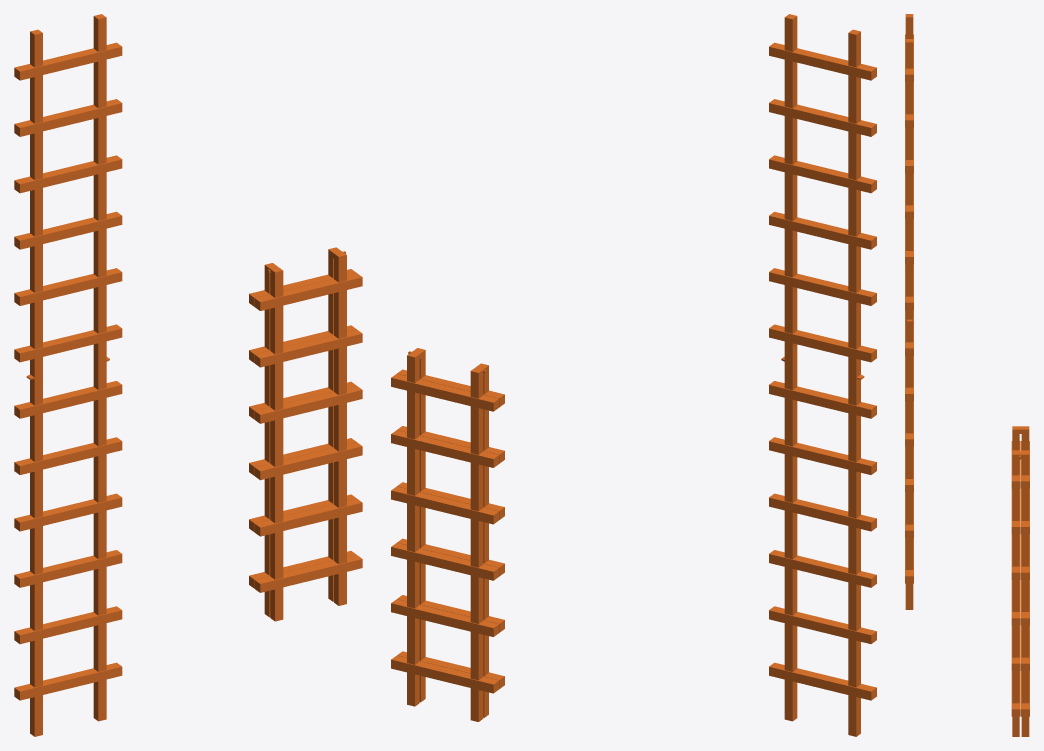
File: Ladder.fbx
The picture shows the model from 3 angles, left to right: view 1: azimuth 30°, elevation 25°; view 2: azimuth 150°, elevation 25°; view 3: azimuth 270°, elevation 25°; orthographic projection. The views are drawn at different scales.
Parts seen in each view (by area): view 1: Foldable Ladder, Folded Ladder; view 2: Foldable Ladder, Folded Ladder; view 3: Folded Ladder, Foldable Ladder.
Part boxes in pixels (bbox=[...]): Foldable Ladder: bbox=[14, 14, 122, 736]; Folded Ladder: bbox=[249, 247, 362, 621]; Foldable Ladder: bbox=[769, 14, 876, 736]; Folded Ladder: bbox=[391, 348, 504, 721]; Folded Ladder: bbox=[1011, 426, 1029, 736]; Foldable Ladder: bbox=[905, 14, 913, 609].
Size of the model in its own units: 798 by 1324 by 261.
